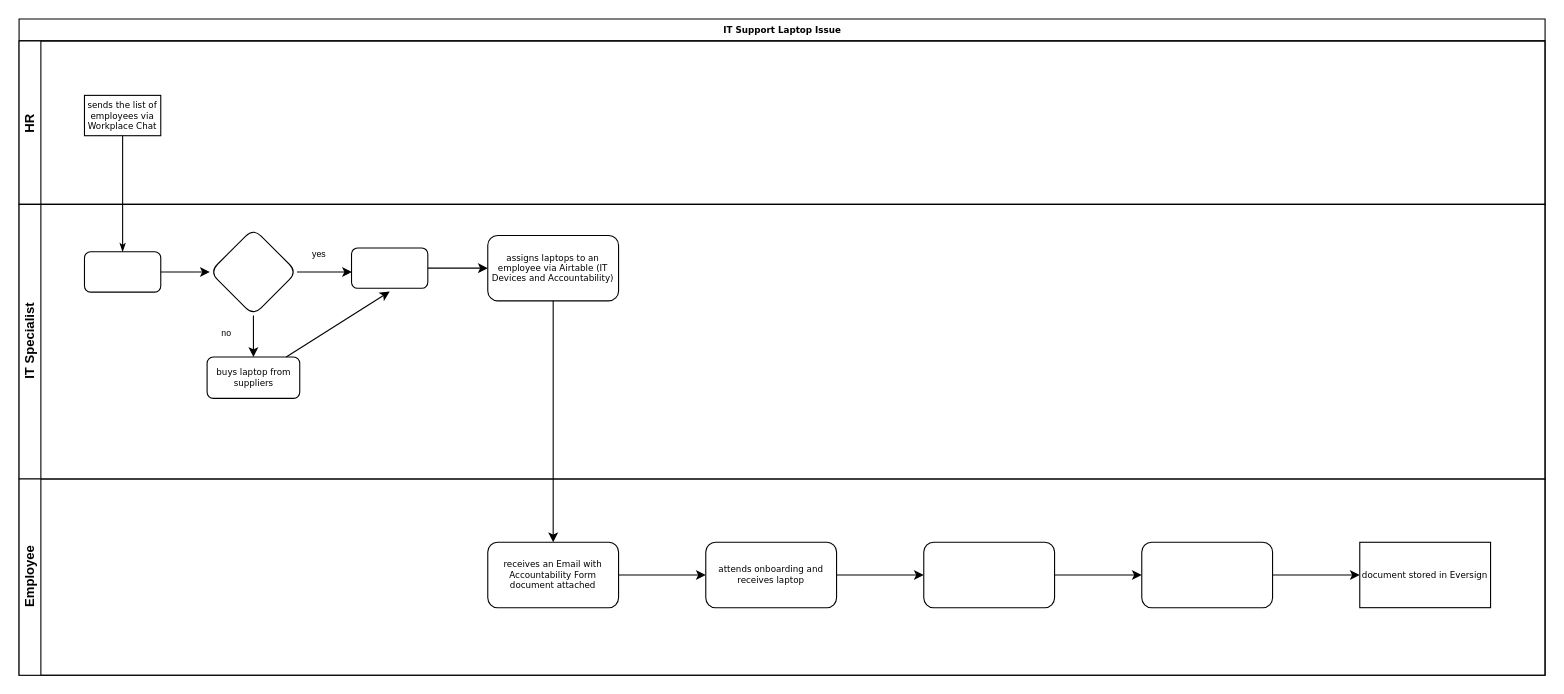
The diagram is 1564 pixels wide and 694 high, and some of its shapes have lost their labels. The shapes that lost their labels are listed below. From the top down, each one's centre as x and y in pixels, then its label:
the point at 122,271: receives the list of employees
the point at 253,271: has enough stock?
the point at 389,267: updates and installs applications
the point at 989,574: signs Accountabiltiy Form Document using Eversign
the point at 1207,574: receives email confirmation of the signed document
